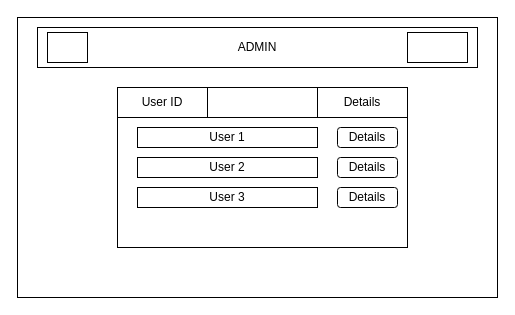
The diagram is 515 pixels wide and 315 high, and some of its shapes have lost their labels. Here are the shapes that lost their labels. From the top down, the centre of each, then its label:
At (x=67, y=47): "Logo".
At (x=437, y=47): "Log Out".
At (x=262, y=102): "User Name".
